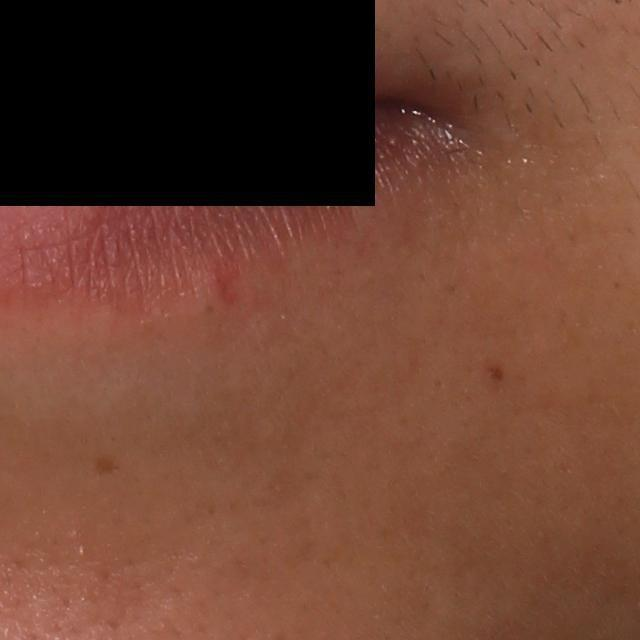nevus: (484, 363, 504, 385)
